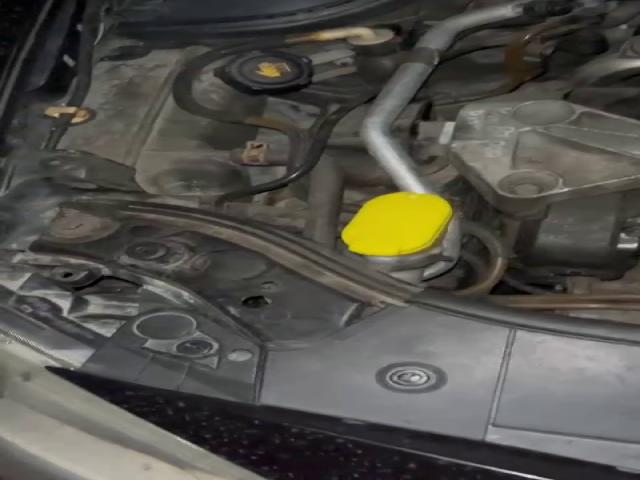antifreeze_tank: (60, 46, 258, 195), (194, 50, 316, 115)
